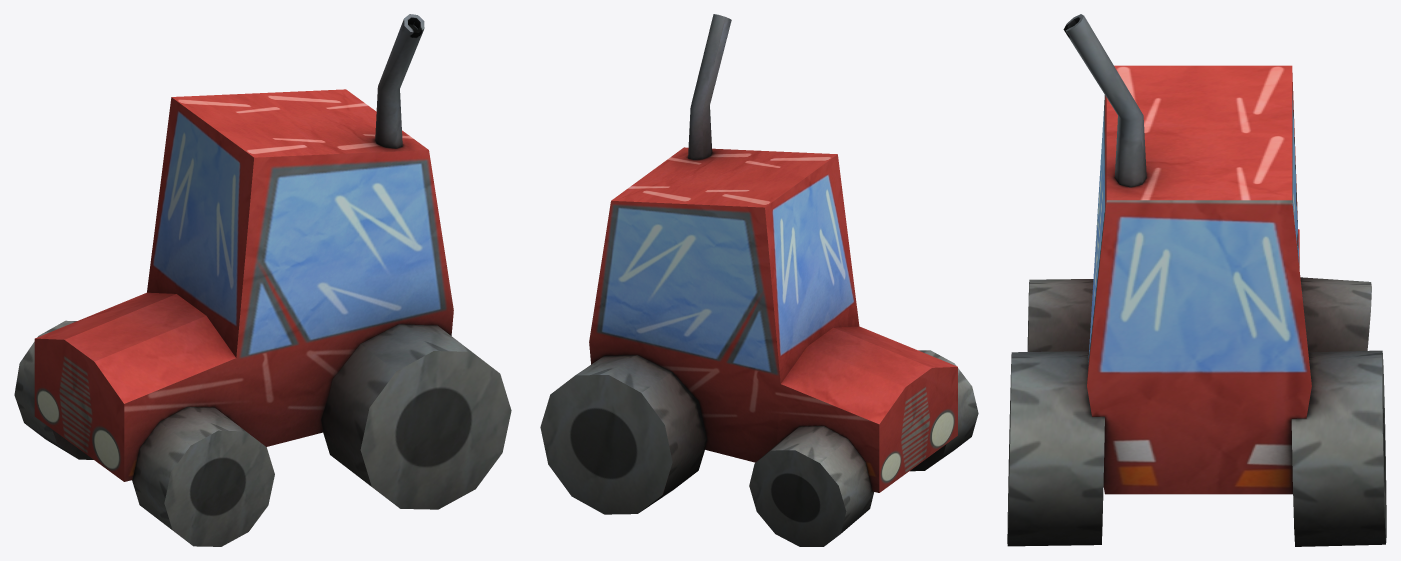
Rendered from trattore.FBX.
The picture shows the model from 3 angles, left to right: view 1: azimuth 30°, elevation 25°; view 2: azimuth 150°, elevation 25°; view 3: azimuth 270°, elevation 25°; orthographic projection. The views are drawn at different scales.
Visible parts, largest first — view 1: trattore; view 2: trattore; view 3: trattore.
Boxes of the visible parts, x1,y1,x2,y2 form: trattore: [14, 14, 511, 546]; trattore: [540, 14, 978, 546]; trattore: [1007, 14, 1386, 546].
Size of the model in its own units: 25.02 by 32.33 by 21.1.
